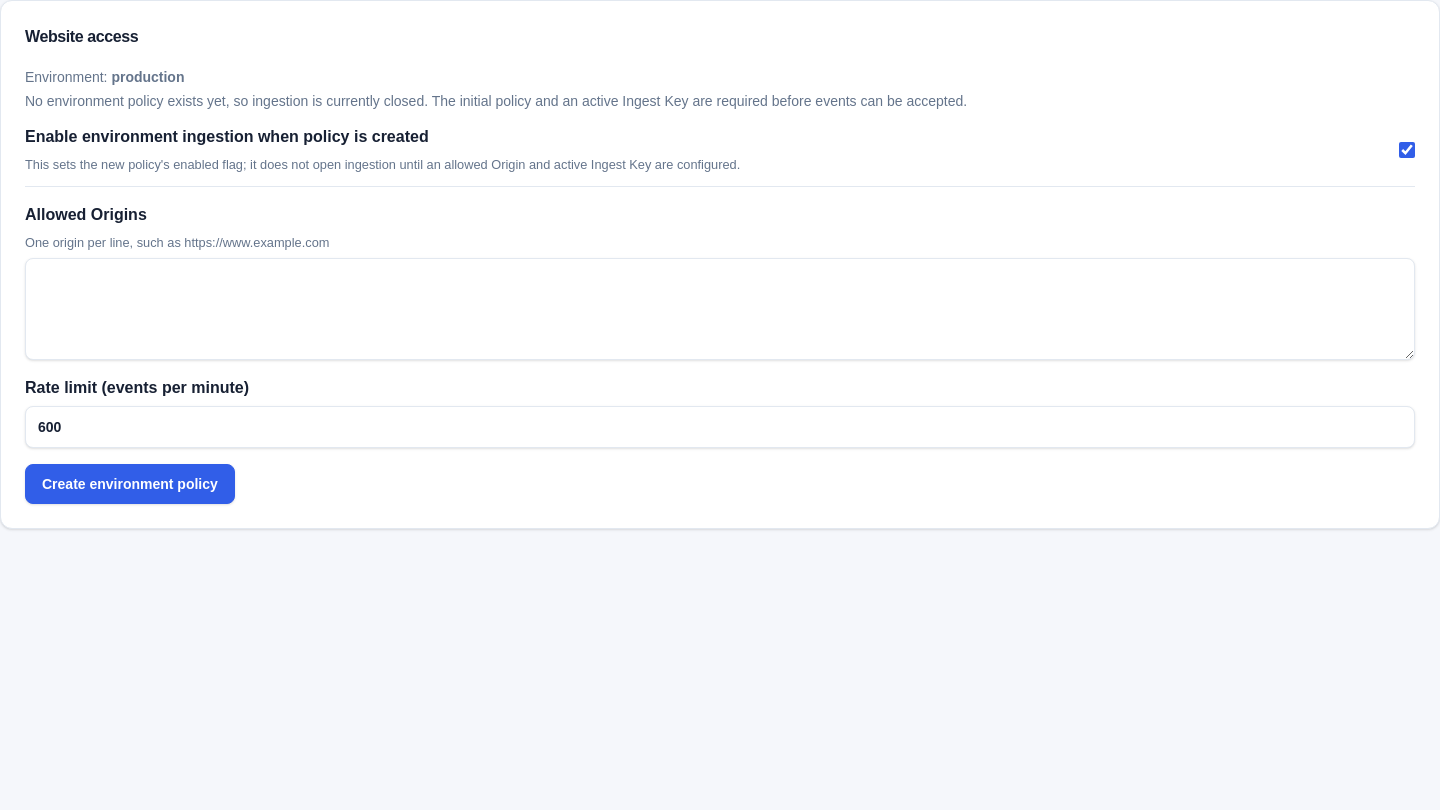
Test: EnvironmentPolicyPresenter flow › disables the form while a save request is pending
Click the button "Create environment policy".
click(130, 484)  # box [25,464,235,504]
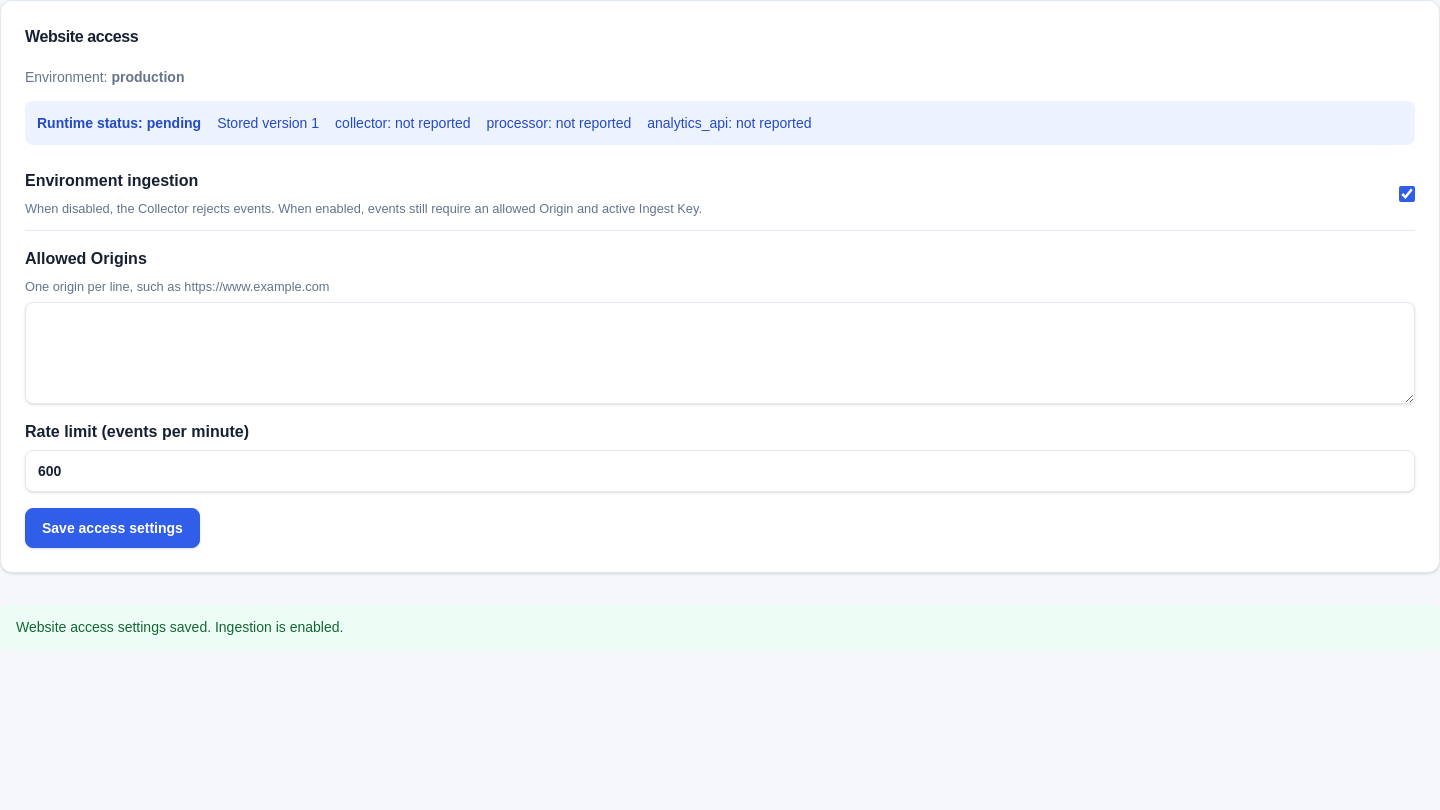
Check: the button "Save access settings" is enabled, box [25,508,200,548]
Check: the text "Website access settings saved. Ingestion is enabled." is shown, box [0,605,1439,649]
